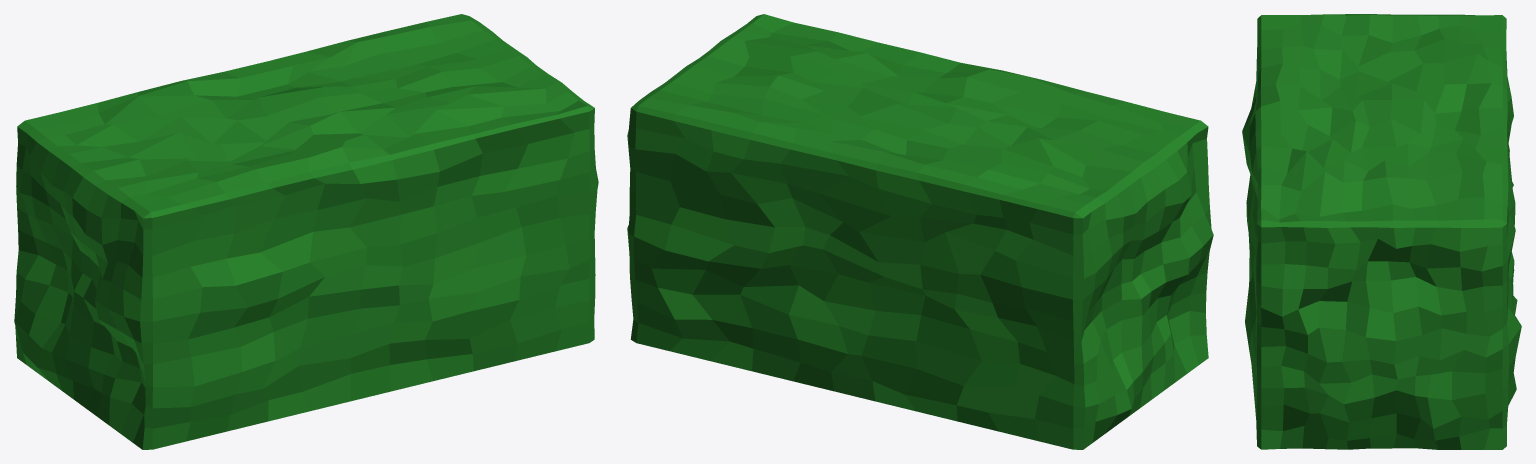
The model's file is lowPolyBush.fbx.
3 views of the same model, side by side, from view 1: azimuth 30°, elevation 25°; view 2: azimuth 150°, elevation 25°; view 3: azimuth 270°, elevation 25° (orthographic). The views are drawn at different scales.
Visible parts, largest first — view 1: Cube; view 2: Cube; view 3: Cube.
Boxes of the visible parts, x1=… form: Cube: x1=14, y1=14, x2=598, y2=449; Cube: x1=627, y1=14, x2=1213, y2=449; Cube: x1=1242, y1=14, x2=1521, y2=449.
Size of the model in its own units: 439 by 218 by 224.
